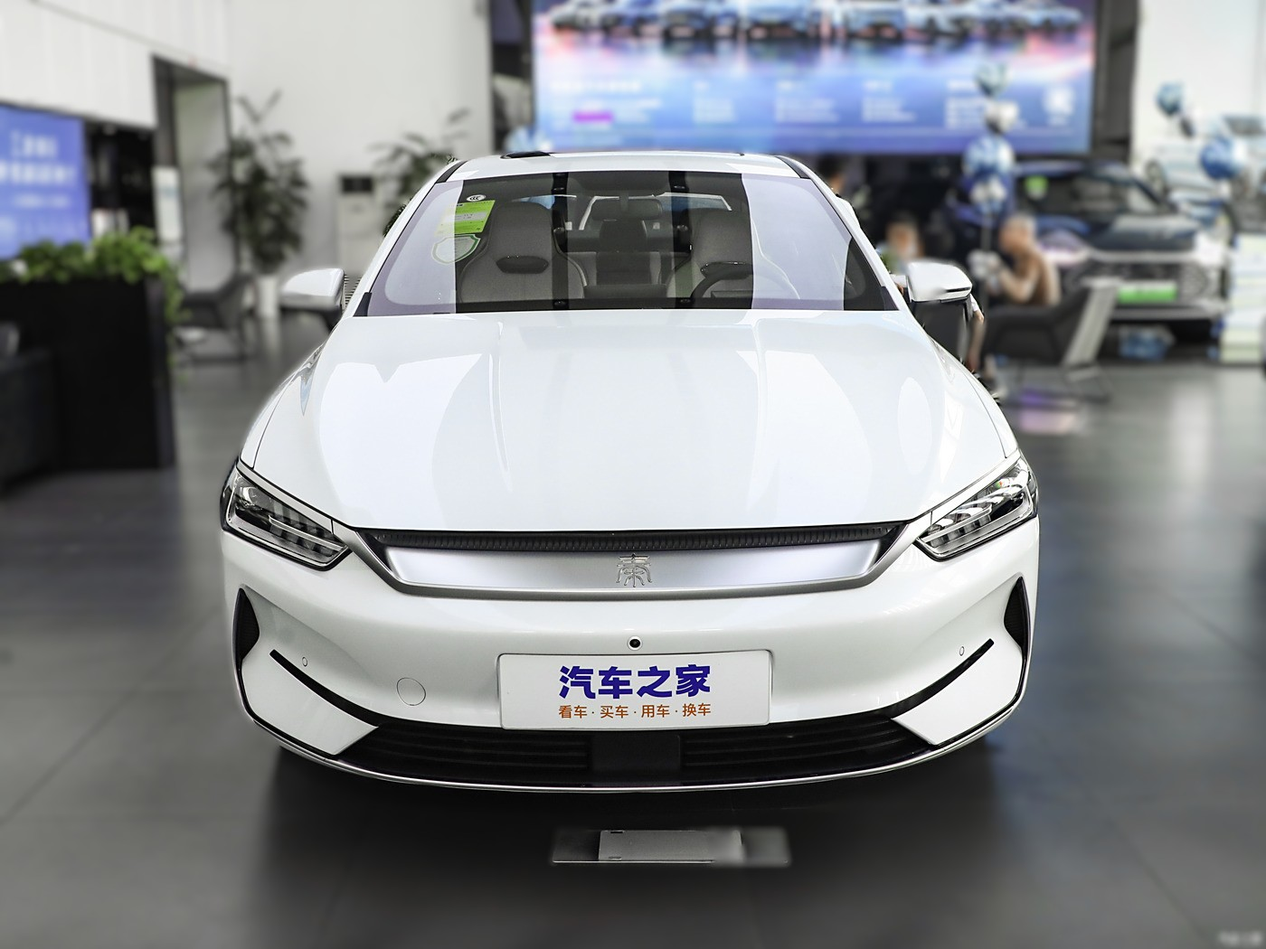BYD Qin: (617, 555, 651, 587)
